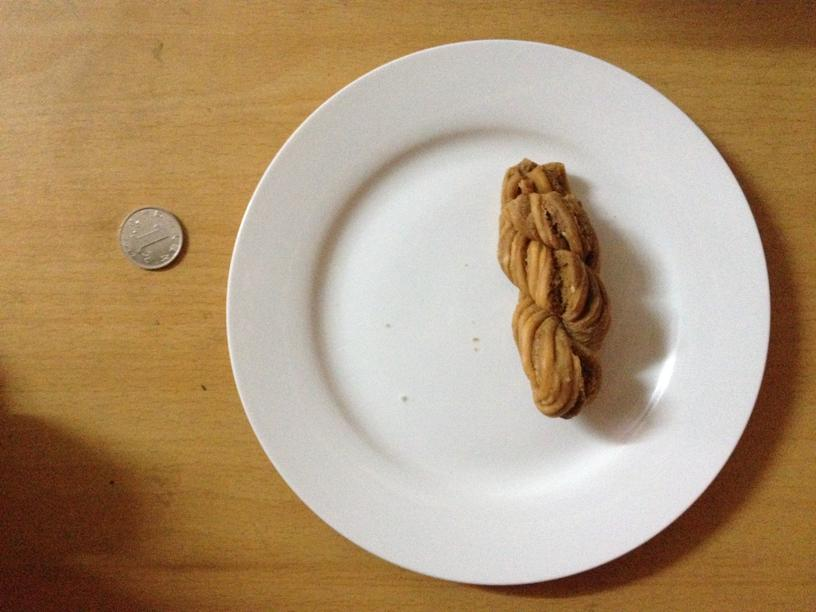coin: (118, 206, 183, 270)
fired_dough_twist: (499, 159, 608, 419)
